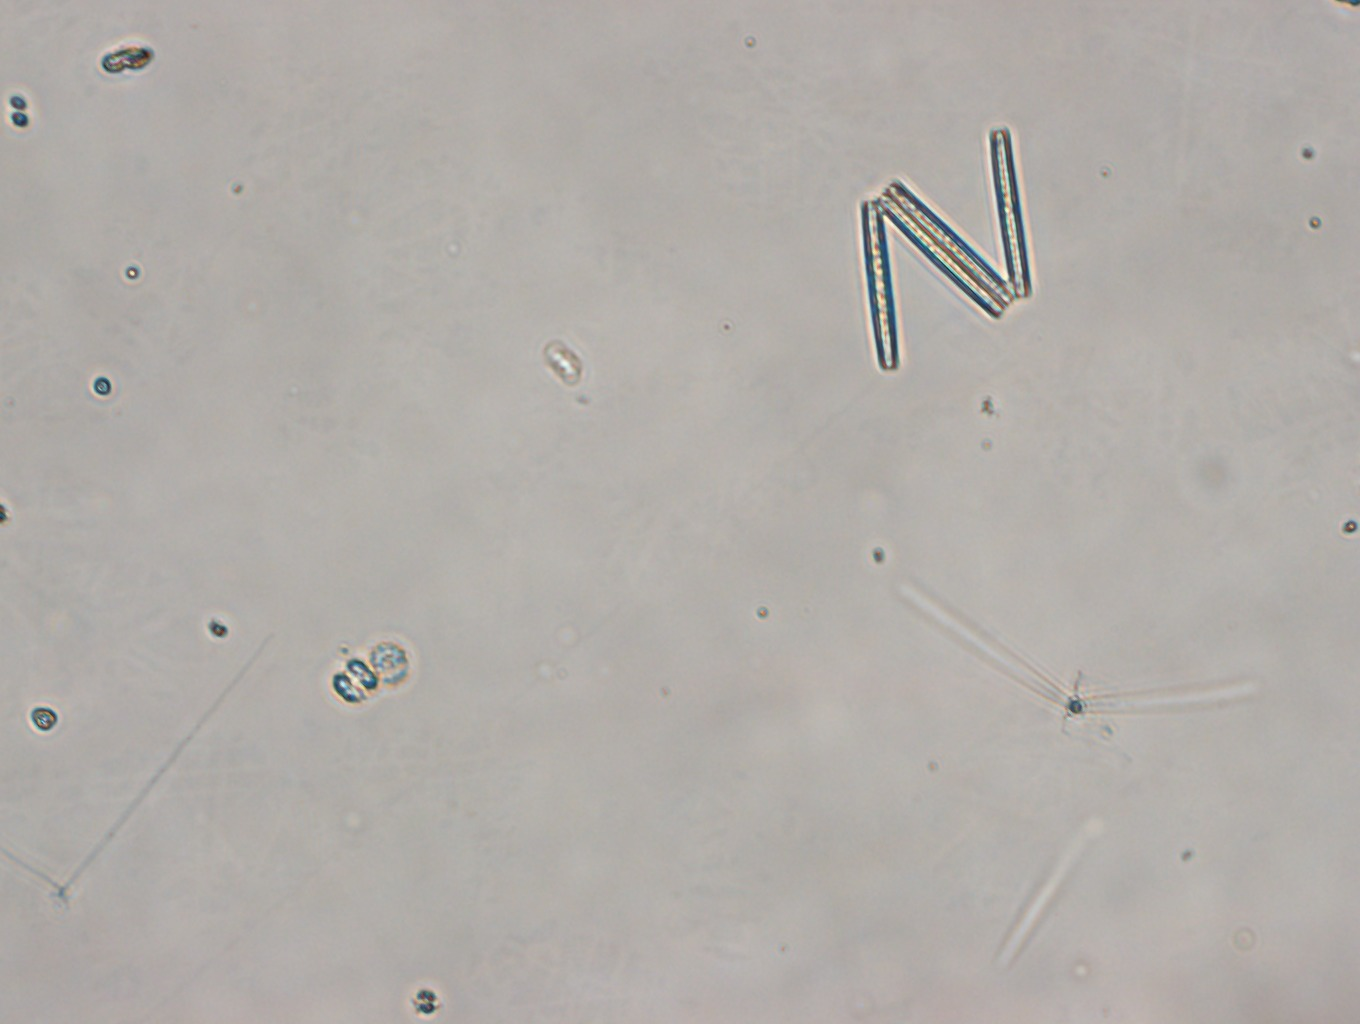thalassionema nitzschioides: (850, 123, 1044, 373)
